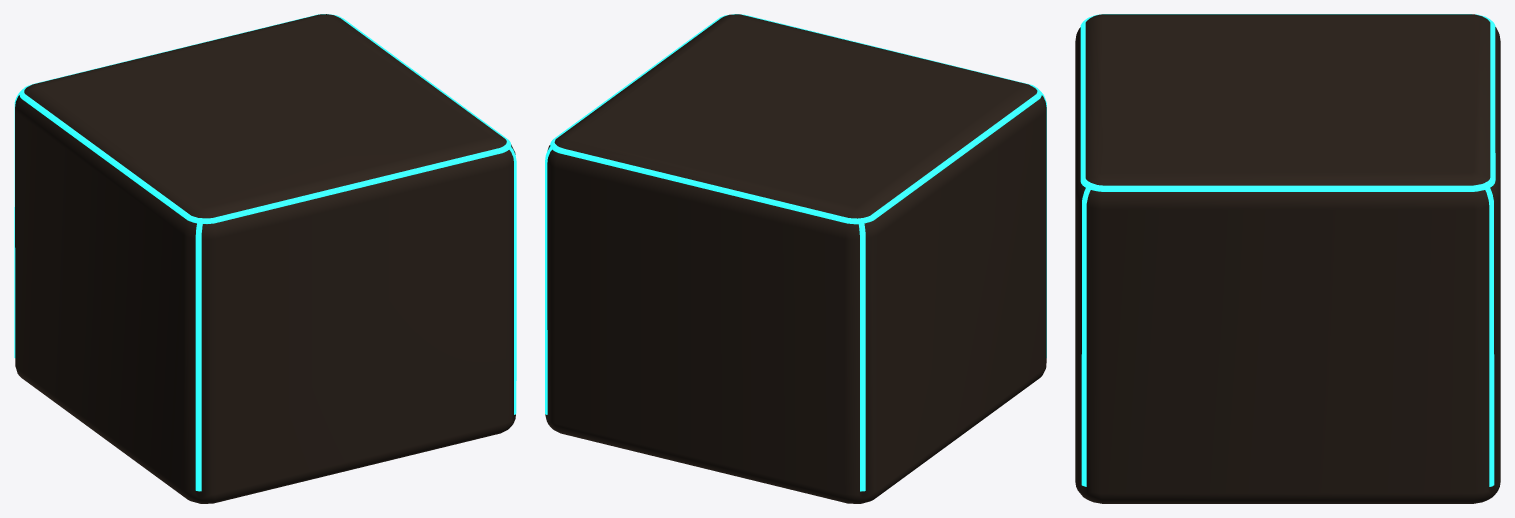
File: SM_NeonBlock_L2.glb
3 views of the same model, side by side, from view 1: azimuth 30°, elevation 25°; view 2: azimuth 150°, elevation 25°; view 3: azimuth 270°, elevation 25° (orthographic). The views are drawn at different scales.
Visible parts, largest first — view 1: SM_NeonBlock; view 2: SM_NeonBlock; view 3: SM_NeonBlock.
Part boxes in pixels (x1,y1,x2,y2): SM_NeonBlock: (14,14,516,503); SM_NeonBlock: (545,14,1046,503); SM_NeonBlock: (1075,14,1500,503).
Size of the model in its own units: 1.9 by 1.6 by 1.9.
